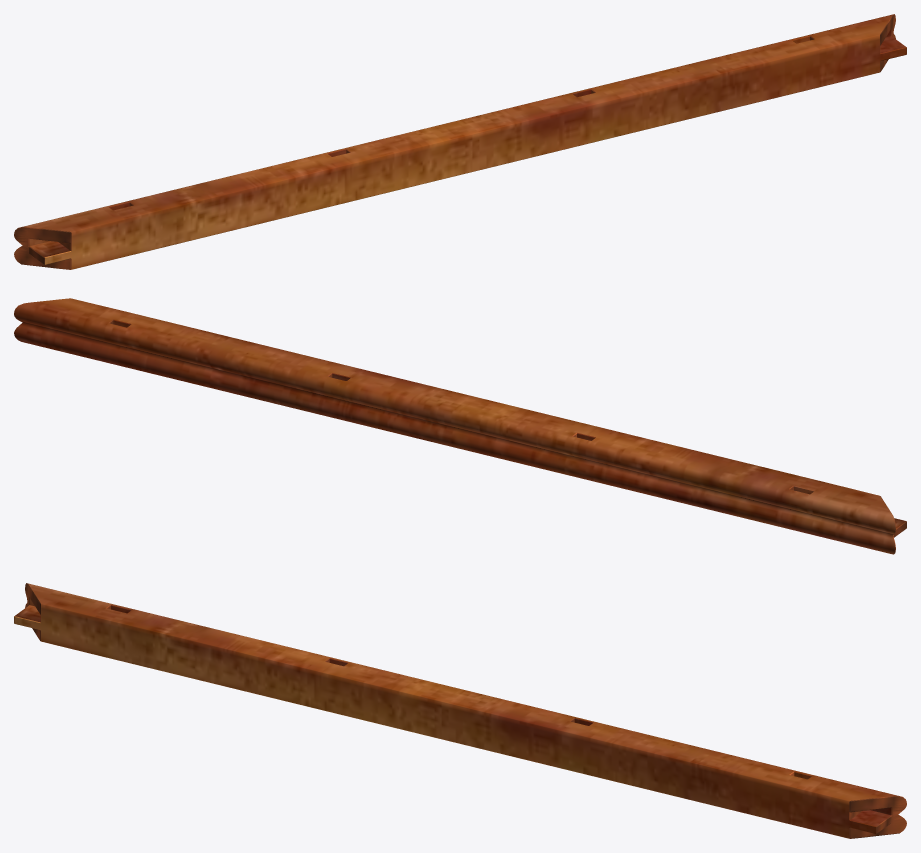
The model's file is ytsy_J_hengzhangi_2.FBX.
The picture shows the model from 3 angles, top to bottom: view 1: azimuth 30°, elevation 25°; view 2: azimuth 150°, elevation 25°; view 3: azimuth 330°, elevation 25°; orthographic projection.
Visible parts, largest first — view 1: ytsy_J_hengzhangi_2; view 2: ytsy_J_hengzhangi_2; view 3: ytsy_J_hengzhangi_2.
Part boxes in pixels (x1,y1,x2,y2): ytsy_J_hengzhangi_2: (14, 14, 906, 269); ytsy_J_hengzhangi_2: (14, 298, 906, 554); ytsy_J_hengzhangi_2: (14, 583, 906, 838).
Size of the model in its own units: 96.77 by 4.01 by 4.01.
